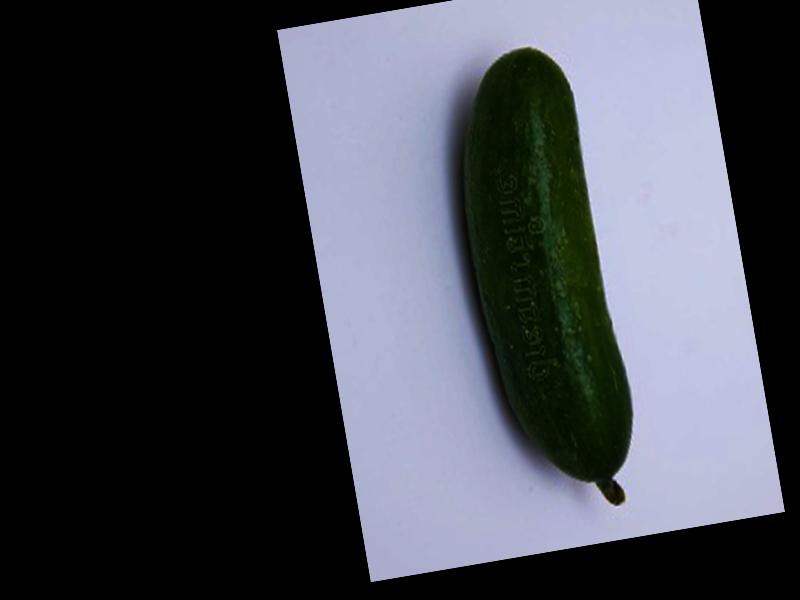Cucumber: (437, 40, 647, 522)
